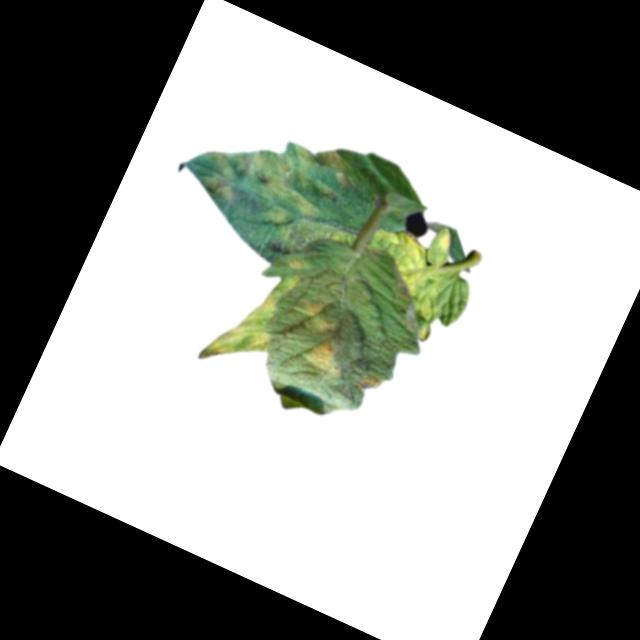Leaf_Mold: (171, 94, 379, 269), (341, 218, 467, 341), (197, 250, 304, 384), (297, 333, 353, 386), (299, 295, 347, 338), (352, 366, 385, 398)
